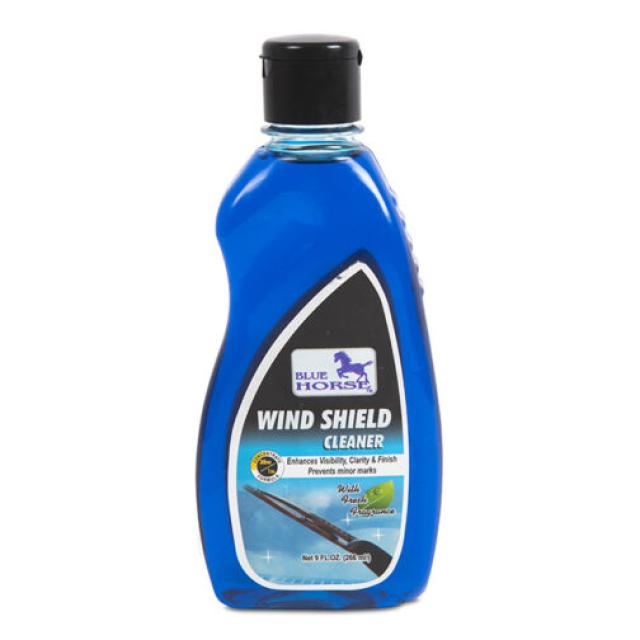winwinshield_washer: (196, 30, 449, 612)
